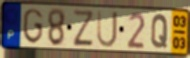2: (126, 11, 147, 50)
8: (46, 6, 67, 48)
G: (22, 7, 44, 45)
Q: (149, 13, 169, 50)
U: (96, 10, 119, 50)
Z: (72, 9, 95, 48)
